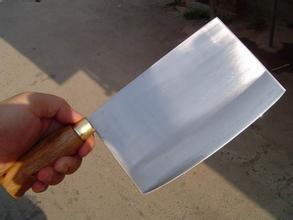knief: (3, 15, 288, 199)
